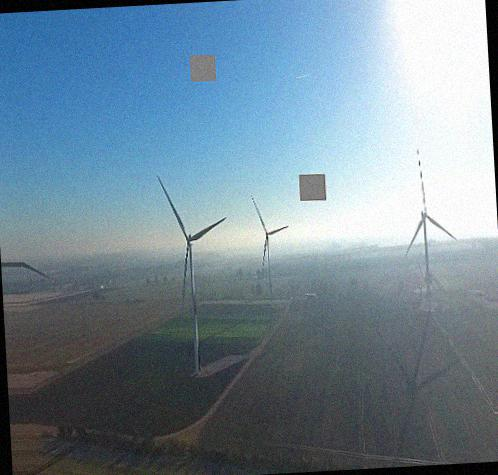wind turbine: (155, 175, 233, 373), (405, 146, 458, 310), (245, 192, 290, 292)
